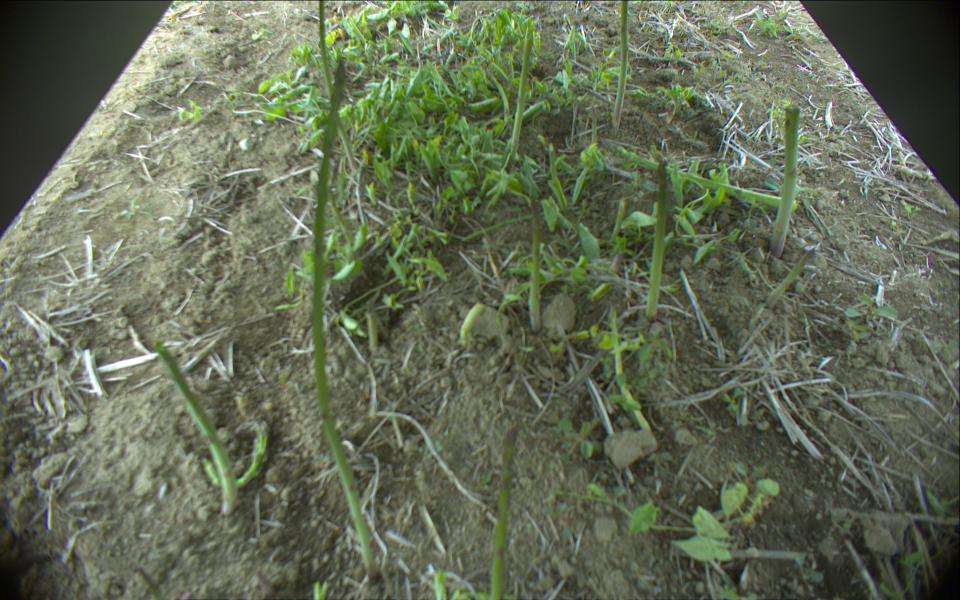aspa: (312, 51, 383, 580), (596, 135, 801, 212), (152, 341, 241, 517), (316, 1, 362, 168), (602, 308, 658, 445), (485, 424, 523, 600), (768, 105, 805, 259), (642, 145, 673, 319), (199, 430, 270, 493), (509, 26, 538, 163), (608, 1, 634, 126), (480, 63, 518, 142), (525, 195, 544, 334), (502, 97, 554, 127), (462, 92, 501, 117), (361, 307, 382, 353), (611, 196, 630, 240)
